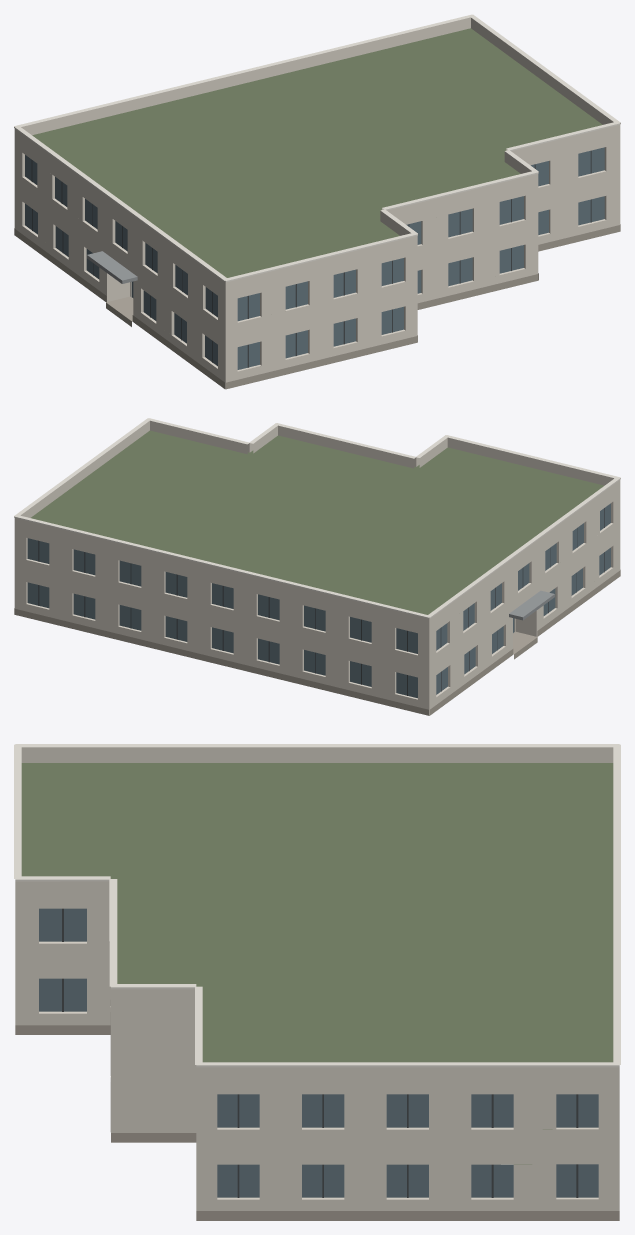
The picture shows the model from 3 angles, top to bottom: view 1: azimuth 30°, elevation 25°; view 2: azimuth 150°, elevation 25°; view 3: azimuth 270°, elevation 25°; orthographic projection. The views are drawn at different scales.
Visible parts, largest first — view 1: kindergarten__roof, kindergarten__wall, kindergarten__parapet, kindergarten__glass, kindergarten__trim, kindergarten__base, kindergarten__frame, kindergarten__canopy; view 2: kindergarten__roof, kindergarten__wall, kindergarten__glass, kindergarten__parapet, kindergarten__trim, kindergarten__base, kindergarten__frame, kindergarten__canopy; view 3: kindergarten__roof, kindergarten__wall, kindergarten__parapet, kindergarten__glass, kindergarten__trim, kindergarten__base, kindergarten__frame.
Boxes of the visible parts, x1,y1,x2,y2 form: kindergarten__roof: (32,28,602,277); kindergarten__wall: (14,134,620,389); kindergarten__parapet: (14,17,620,291); kindergarten__glass: (25,147,604,369); kindergarten__trim: (14,14,620,282); kindergarten__base: (14,224,620,389); kindergarten__frame: (31,150,591,367); kindergarten__canopy: (87,251,137,283); kindergarten__roof: (31,430,603,715); kindergarten__wall: (14,488,620,715); kindergarten__glass: (27,503,610,698); kindergarten__parapet: (14,420,620,627); kindergarten__trim: (14,418,620,618); kindergarten__base: (14,570,620,715); kindergarten__frame: (38,508,604,695); kindergarten__canopy: (509,590,554,620); kindergarten__roof: (21,763,613,1164); kindergarten__wall: (15,894,619,1210); kindergarten__parapet: (15,747,619,1080); kindergarten__glass: (39,908,598,1197); kindergarten__trim: (14,744,620,1067); kindergarten__base: (15,1025,619,1220); kindergarten__frame: (62,908,578,1197).
Size of the model in its own units: 36.58 by 8.4 by 28.29.
